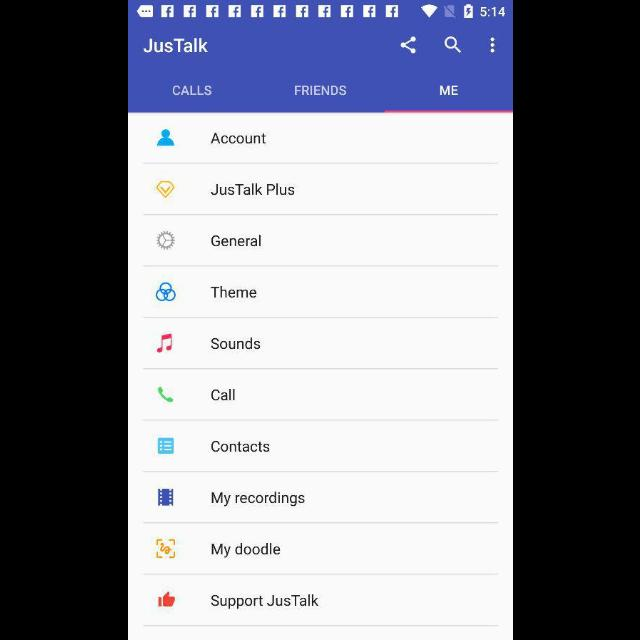icon: (398, 37, 416, 55), (444, 37, 461, 55), (156, 130, 174, 146), (158, 438, 174, 454), (490, 36, 494, 54)
image: (155, 282, 175, 302), (156, 230, 174, 250), (157, 540, 176, 558), (157, 180, 175, 198), (156, 334, 172, 354), (157, 488, 173, 506), (157, 386, 173, 402), (157, 592, 175, 606)
text: (210, 594, 318, 608), (211, 492, 305, 506), (210, 542, 280, 558), (142, 37, 208, 53), (210, 184, 294, 196), (211, 440, 269, 452), (210, 338, 260, 350), (210, 235, 260, 247), (210, 134, 266, 144), (210, 286, 256, 298), (294, 86, 346, 96), (172, 85, 212, 96), (211, 389, 235, 401), (438, 85, 458, 96)
uppertaskbar: (128, 1, 512, 23)
